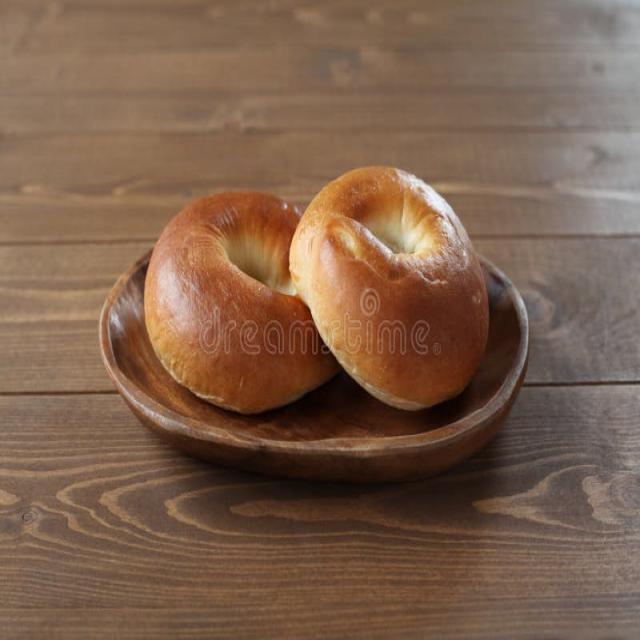Bagel: (289, 169, 489, 409), (145, 191, 339, 413)
